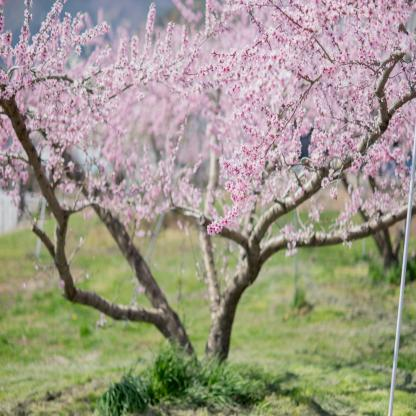Momo: (0, 0, 416, 327)
